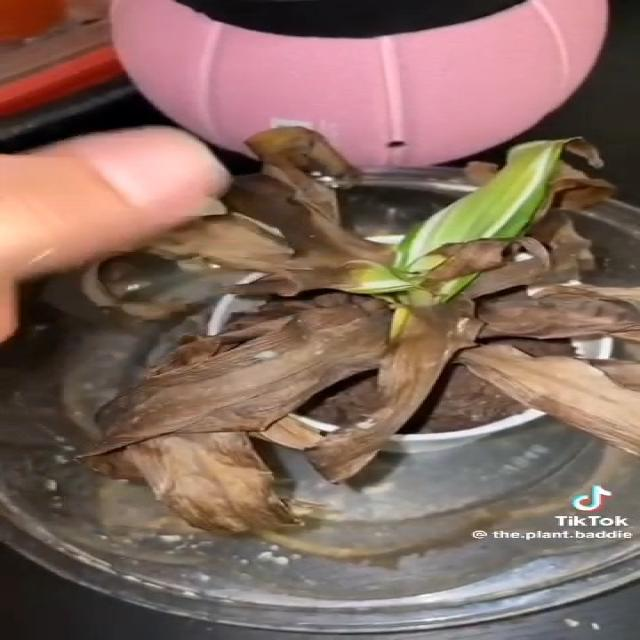lisc_suchy: (79, 293, 391, 537), (78, 213, 370, 320), (308, 307, 484, 483), (220, 128, 391, 262), (456, 344, 640, 456), (459, 285, 640, 353), (409, 238, 578, 304), (532, 166, 617, 283)
roslina_sucha: (82, 126, 640, 534)
